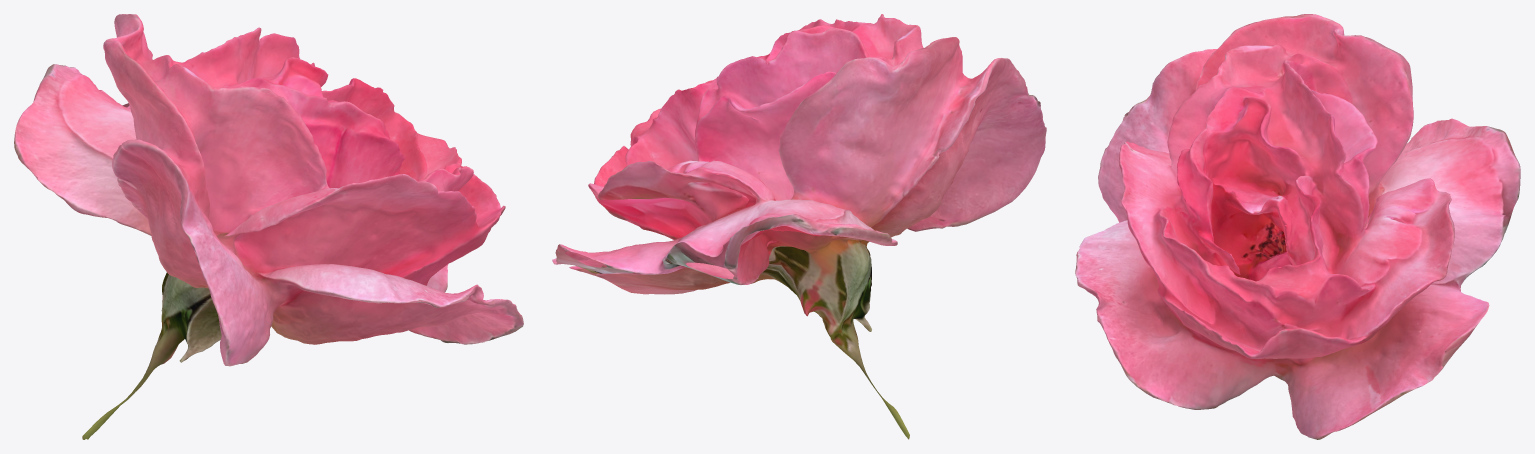
File: kwiatek7.2.glb
3 views of the same model, side by side, from view 1: azimuth 30°, elevation 25°; view 2: azimuth 150°, elevation 25°; view 3: azimuth 270°, elevation 25° (orthographic). The views are drawn at different scales.
Parts seen in each view (by area): view 1: Object_2; view 2: Object_2; view 3: Object_2.
Boxes of the visible parts, x1,y1,x2,y2 form: Object_2: (14, 14, 523, 439); Object_2: (552, 14, 1046, 439); Object_2: (1075, 14, 1520, 439).
Size of the model in its own units: 0.0973 by 0.0978 by 0.1117.
Materials: 1 (1 with a texture image).
